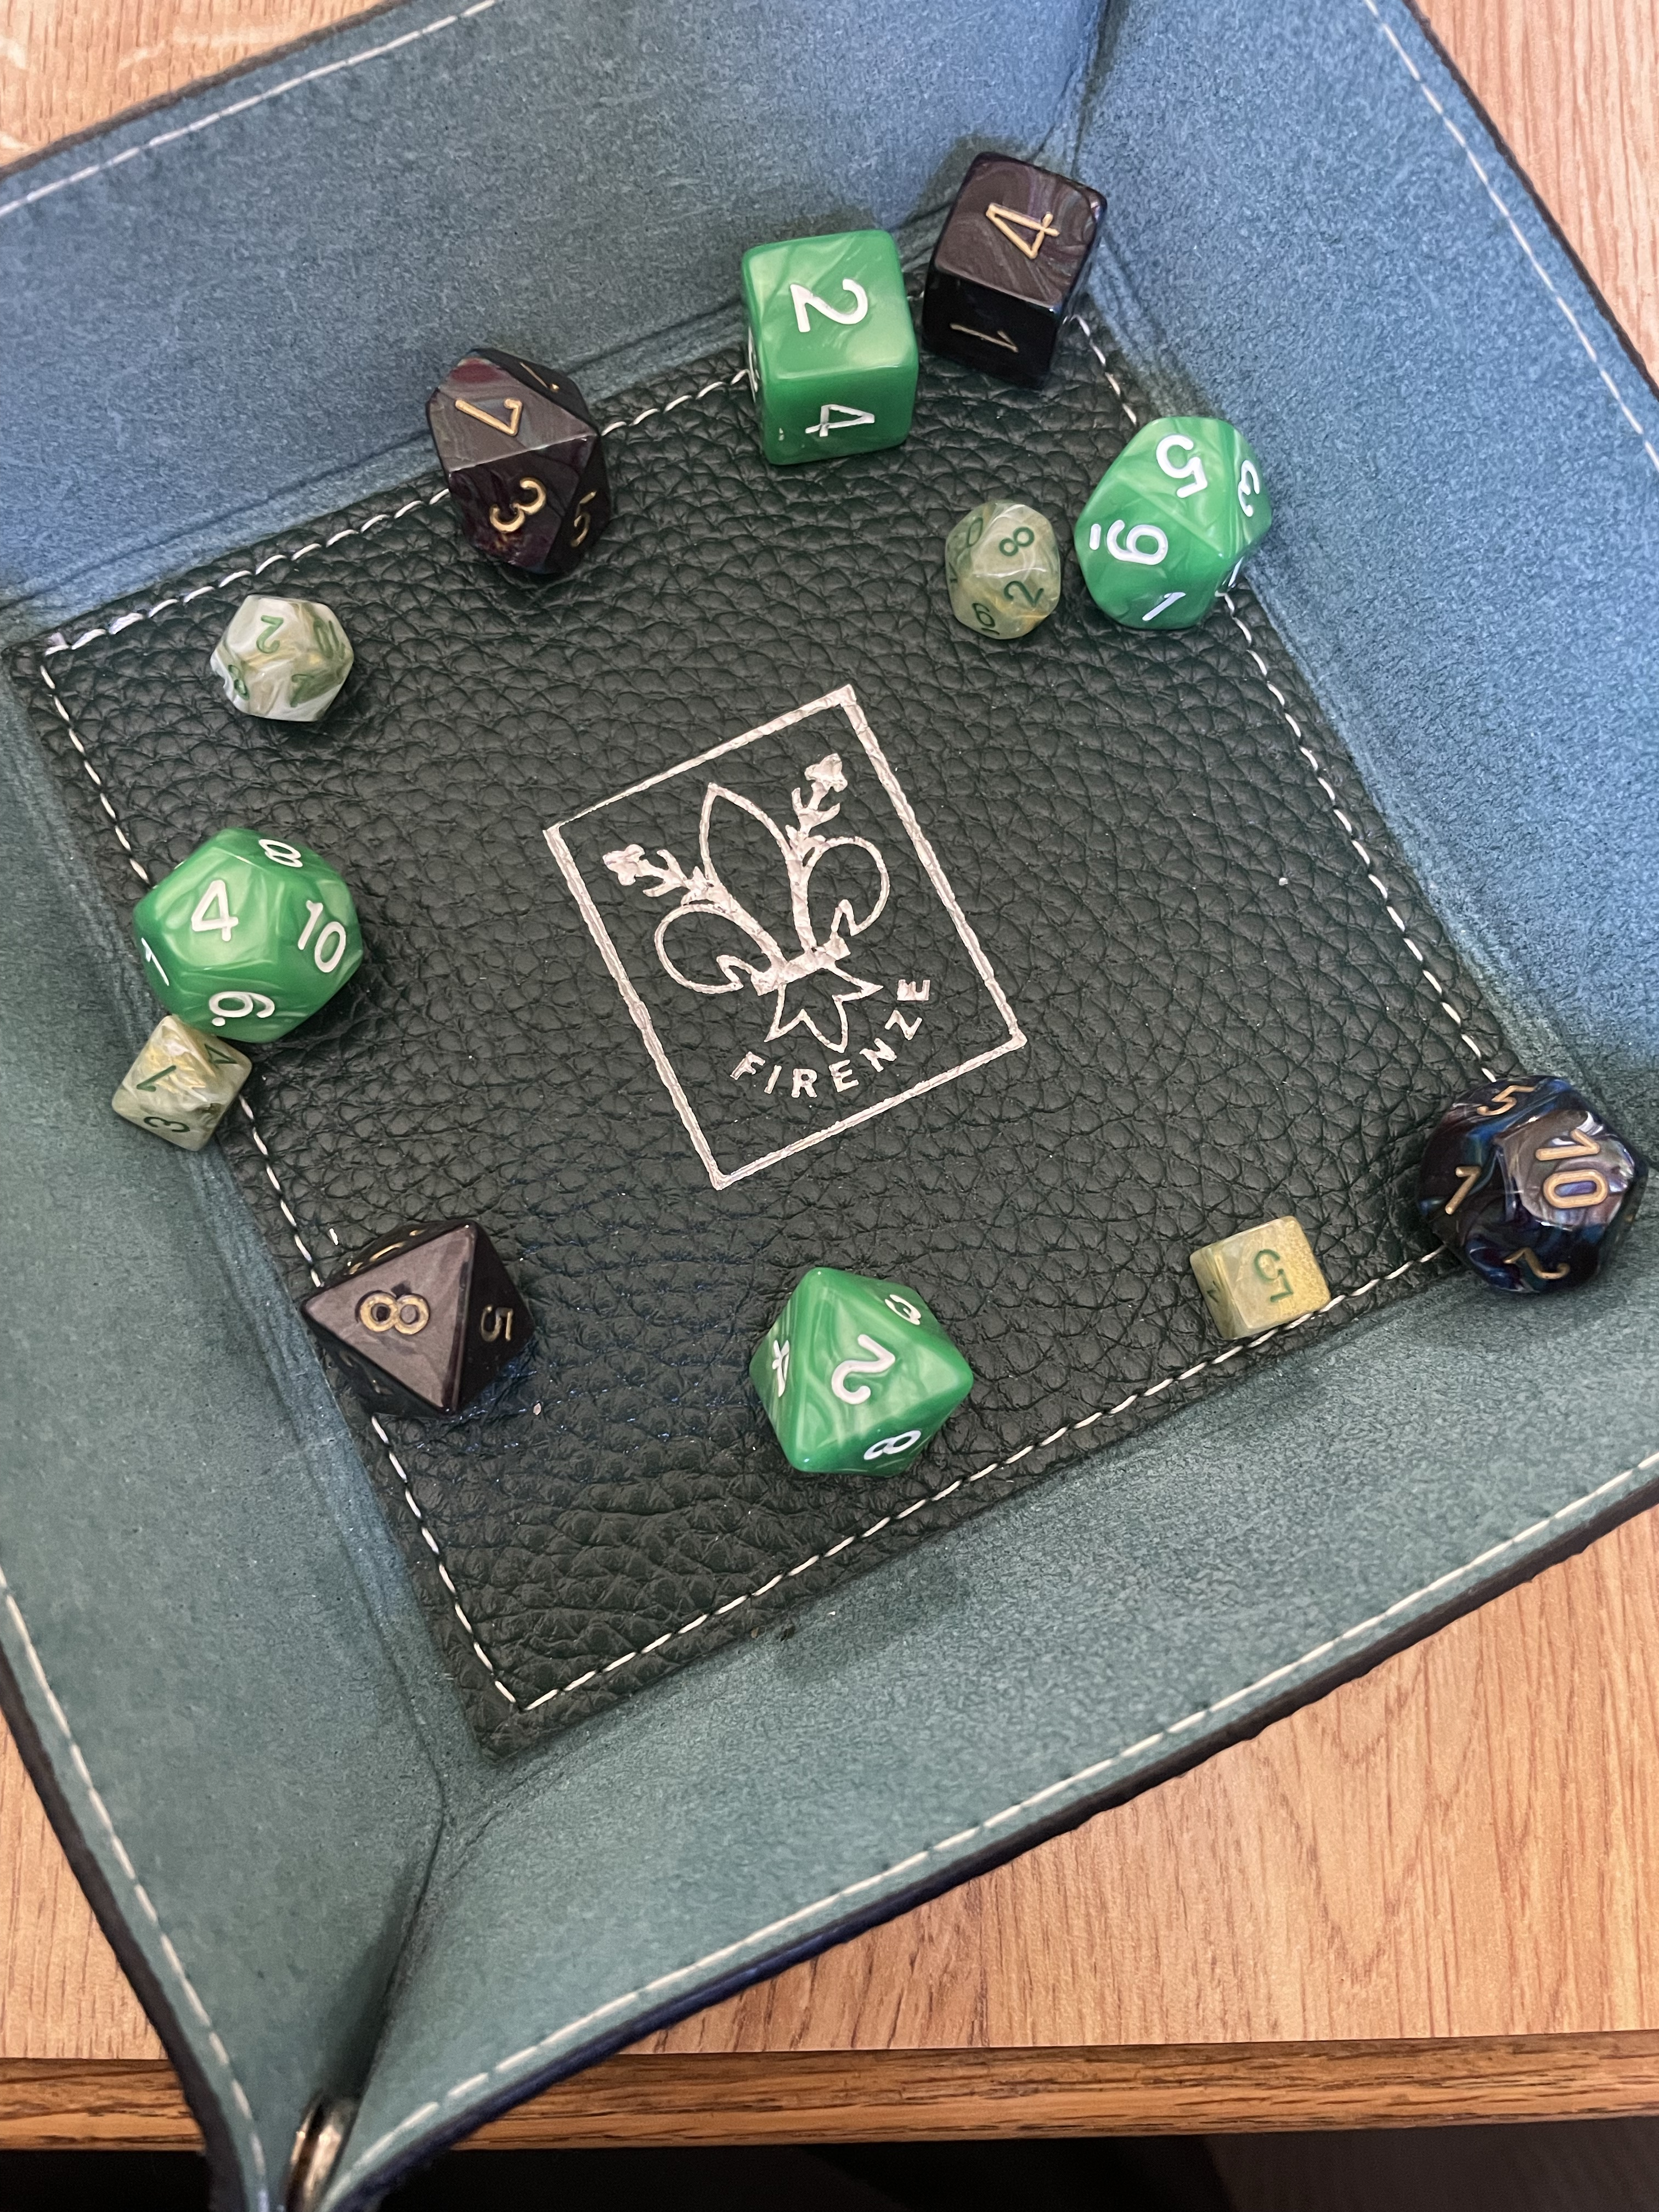eight: (279, 1197, 544, 1454), (941, 488, 1082, 644)
five: (1058, 380, 1305, 655), (1155, 1205, 1349, 1367)
four: (880, 113, 1161, 378), (120, 812, 403, 1061)
one: (82, 991, 270, 1158)
seven: (389, 331, 641, 589)
ten: (1389, 1050, 1656, 1325)
two: (716, 1230, 1002, 1510), (711, 218, 964, 474), (193, 573, 385, 763)
